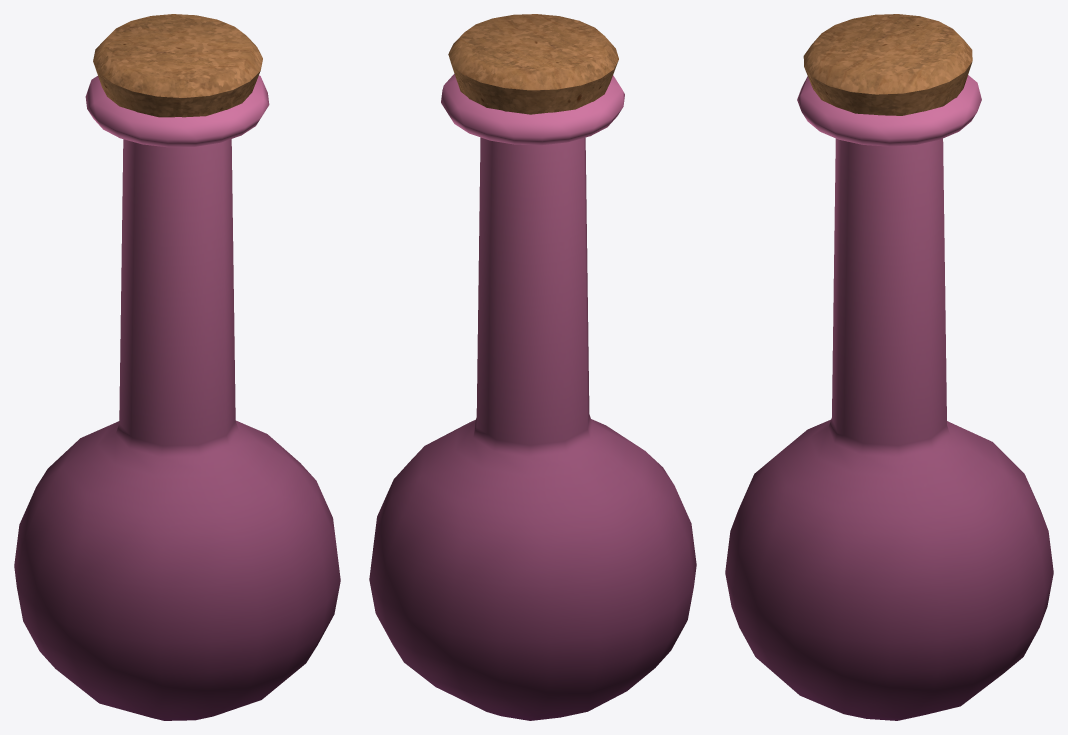
File: SM_Potion_Props_Bottle_Tiny_03_B.fbx
3 renders of one model, left to right at view 1: azimuth 30°, elevation 25°; view 2: azimuth 150°, elevation 25°; view 3: azimuth 270°, elevation 25°, orthographic.
Parts seen in each view (by area): view 1: SM_Potion_Props_Bottle_Tiny_03_B_LOD0; view 2: SM_Potion_Props_Bottle_Tiny_03_B_LOD0; view 3: SM_Potion_Props_Bottle_Tiny_03_B_LOD0.
Part boxes in pixels (x1=…): SM_Potion_Props_Bottle_Tiny_03_B_LOD0: x1=14, y1=14, x2=340, y2=720; SM_Potion_Props_Bottle_Tiny_03_B_LOD0: x1=369, y1=14, x2=696, y2=720; SM_Potion_Props_Bottle_Tiny_03_B_LOD0: x1=725, y1=14, x2=1053, y2=720.
Size of what is drawn, in the model's own units: 5.77 by 12.72 by 5.77.
